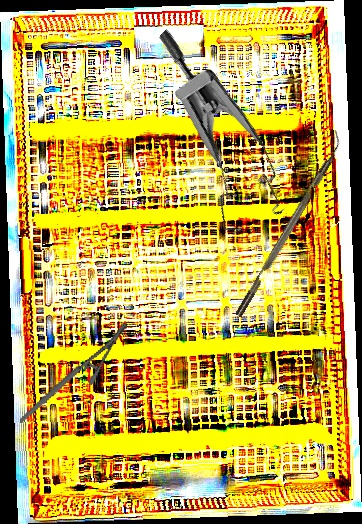Chopper: (226, 129, 349, 318)
Needle Holder: (0, 321, 146, 424)
Speculum: (94, 27, 320, 250)
